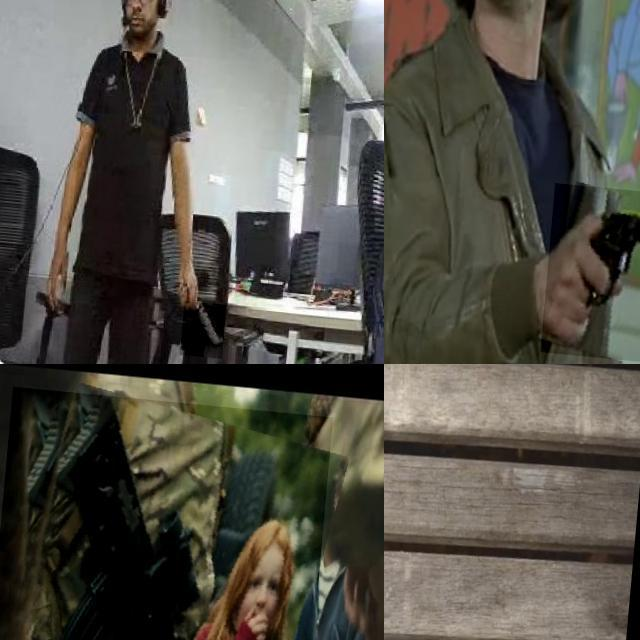-: (384, 364, 469, 640), (384, 364, 441, 640), (190, 295, 236, 352)
gun-knife-thesis - v11 Yolov5 augmented: (0, 386, 333, 640), (550, 174, 640, 352)
